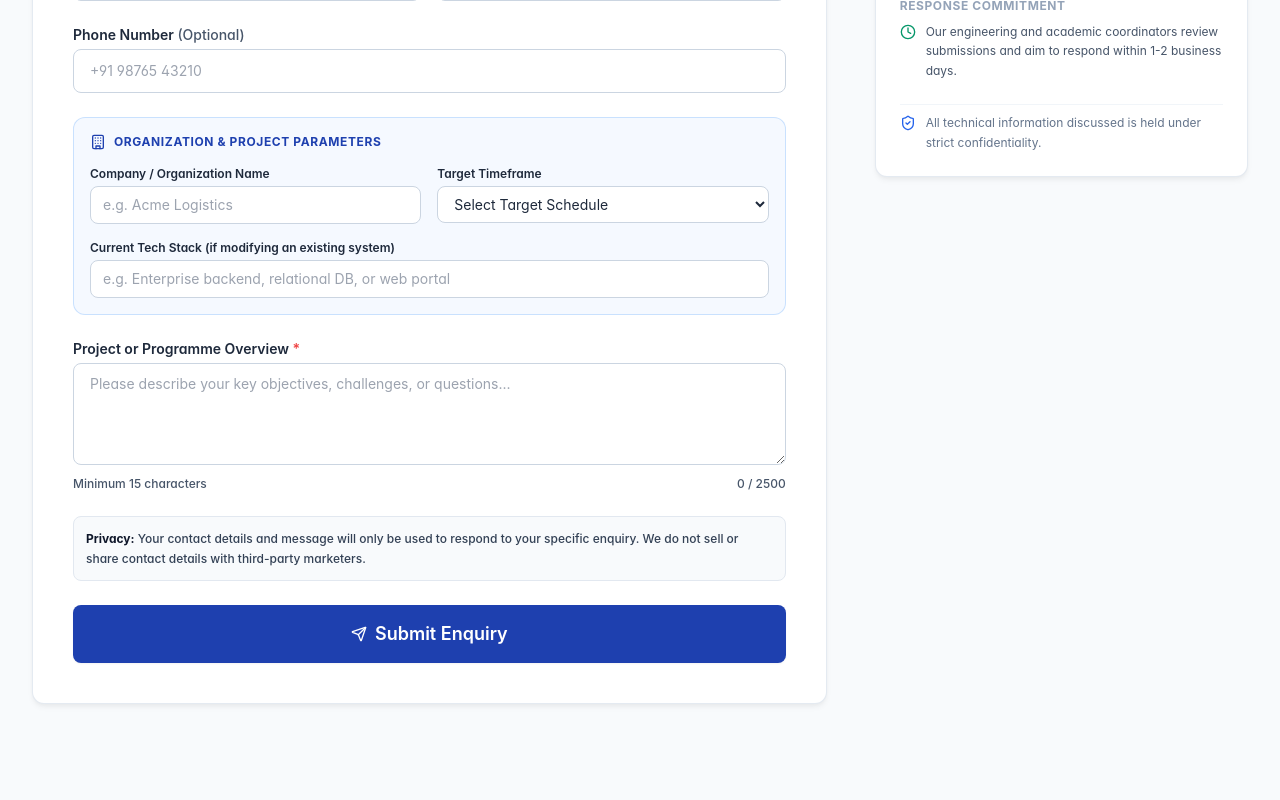
Test case: Accessible Multi-Intent Contact Form › validates required fields and shows error messages when submitted empty
(page scrolled)
Click the button "Submit Enquiry".
click(429, 634)  # box [73,605,786,663]
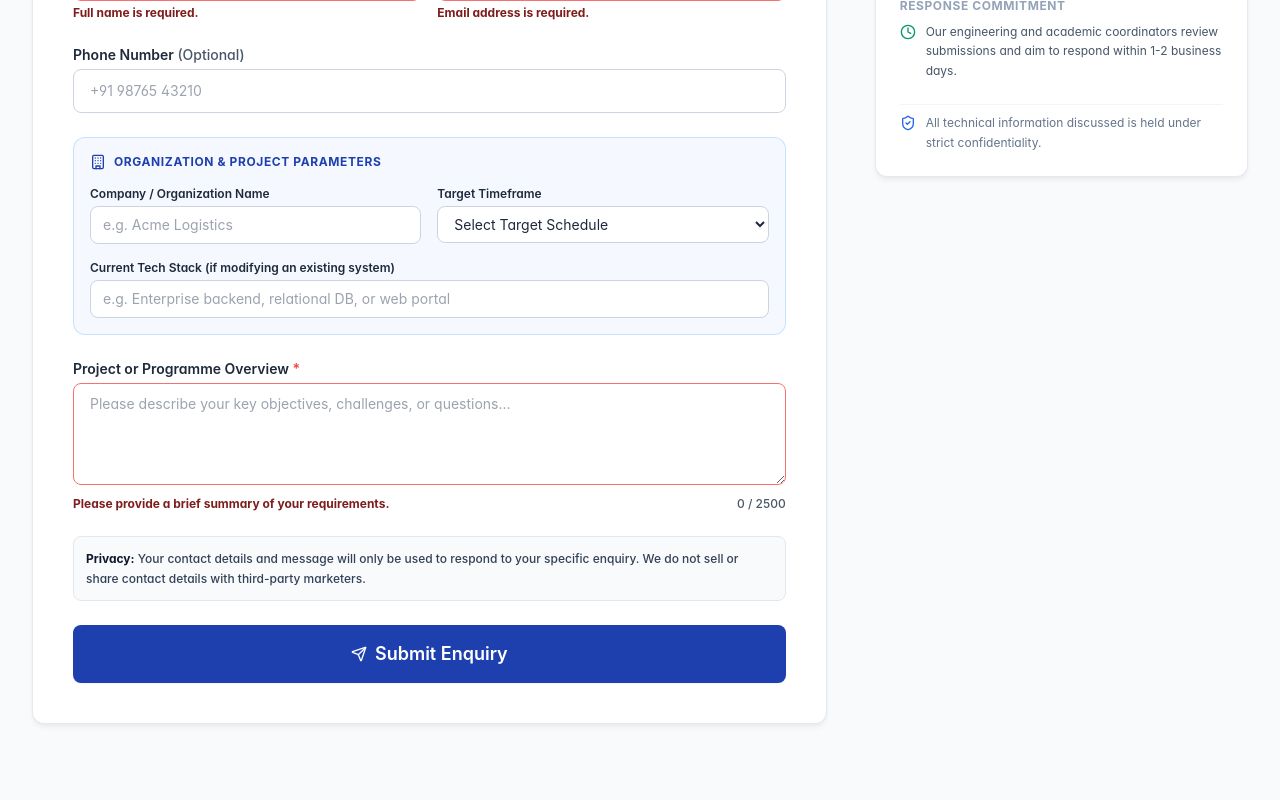
Expected: the text "Full name is required." is shown, [73,5,199,20]
Expected: the text "Email address is required." is shown, [437,5,589,20]
Expected: the text "Please provide a brief summary of your requirements." is shown, [73,496,389,512]
